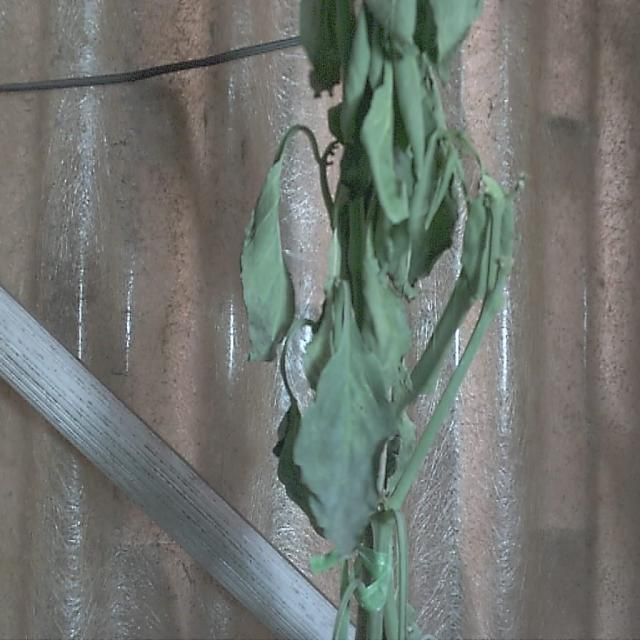Leaf: (299, 332, 391, 550), (240, 148, 297, 372), (364, 56, 397, 222)
